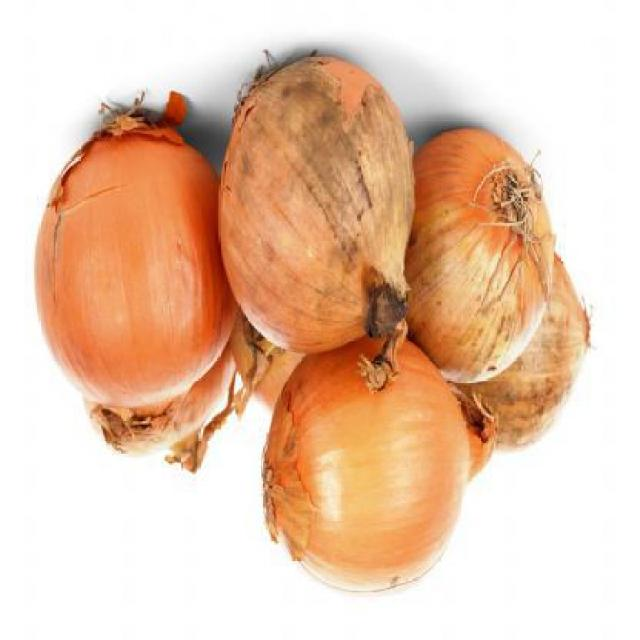onion: (400, 108, 586, 446), (214, 50, 415, 350), (263, 352, 488, 598), (42, 110, 226, 401)
